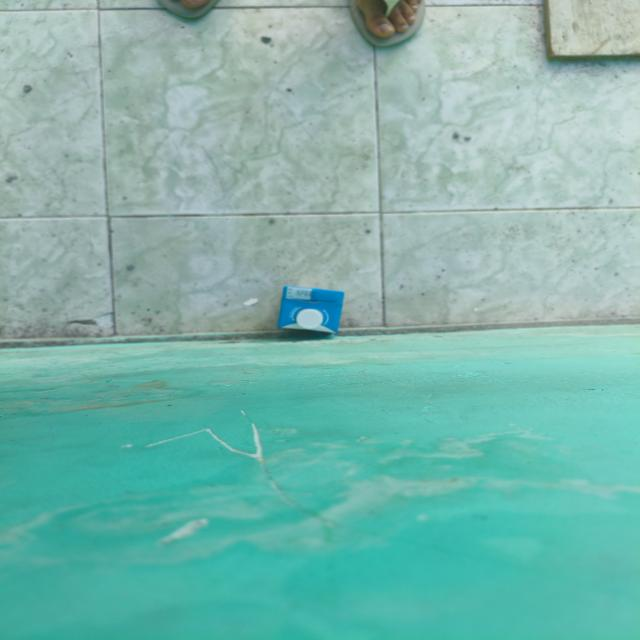Caixa de Leite: (276, 286, 346, 335)
